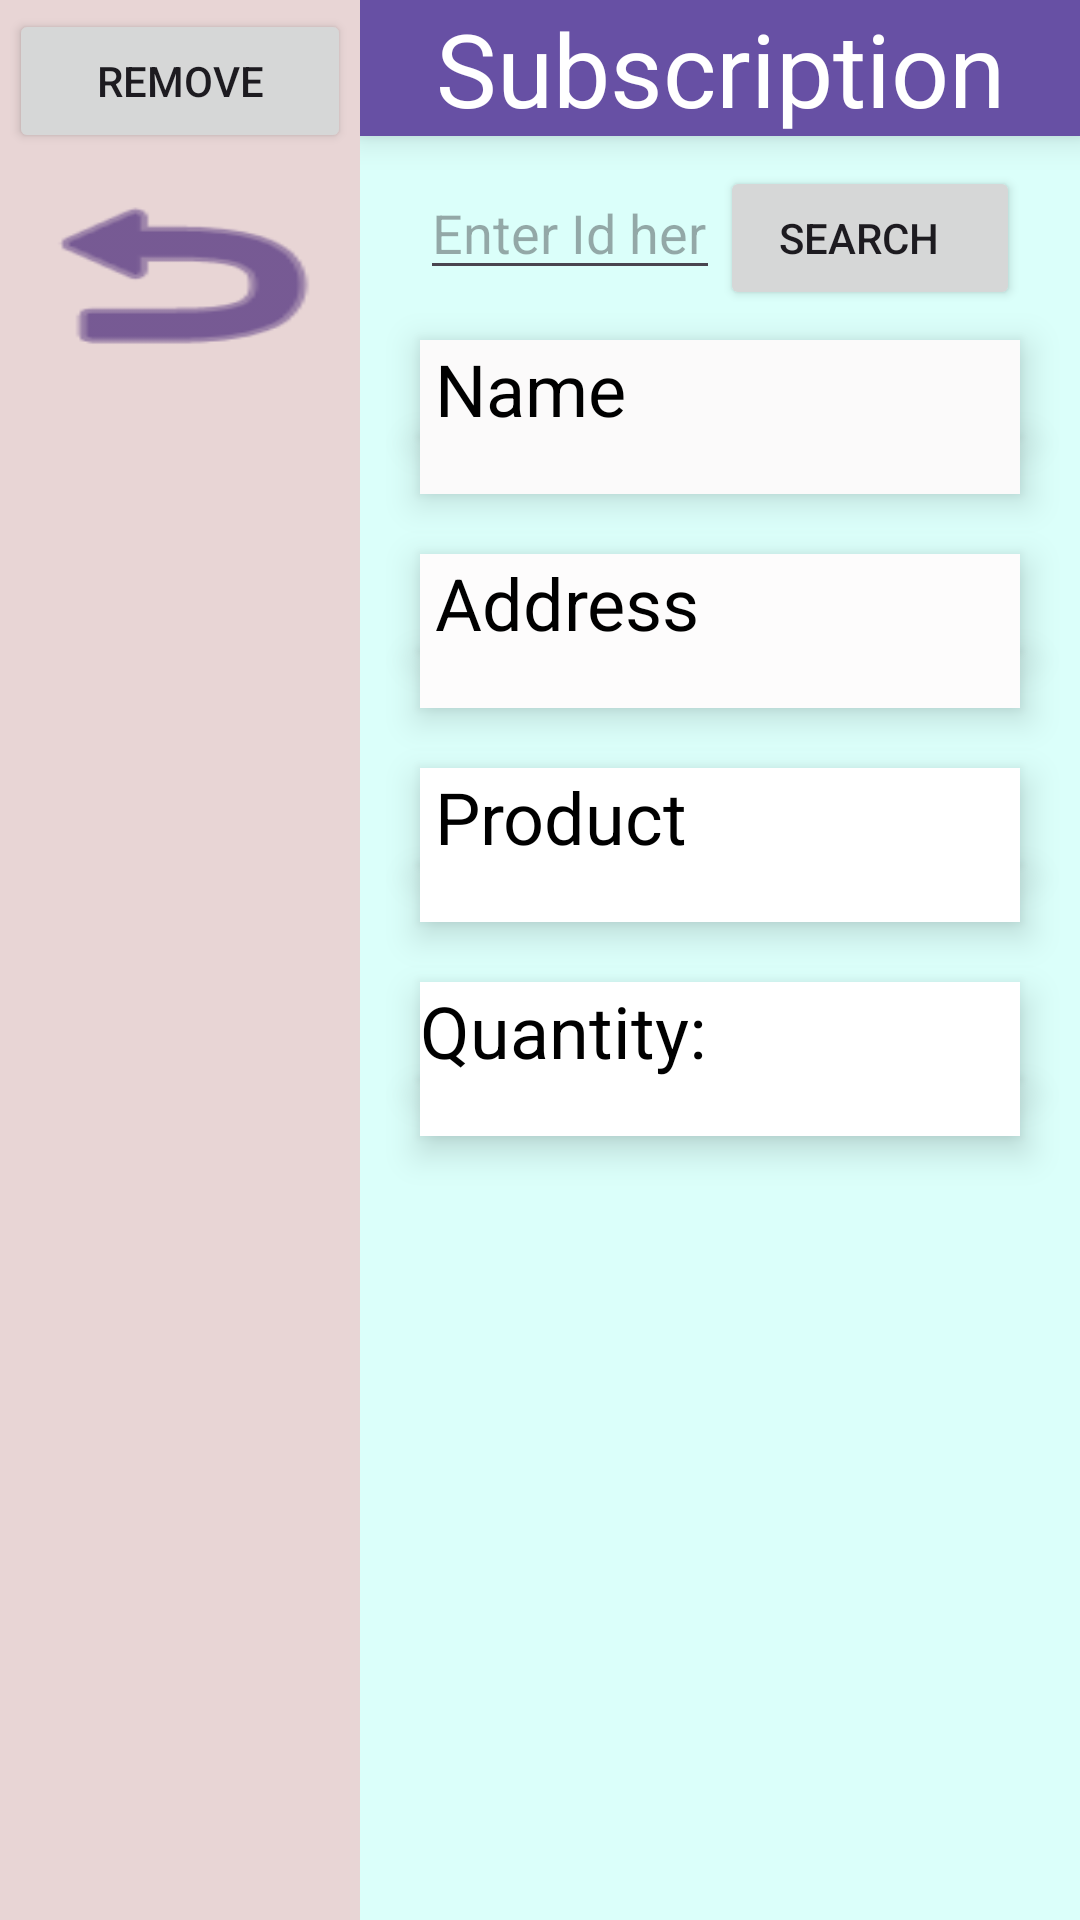

Where to tap for icons on this 1080px×1920px app screen, as (x=x, y=y):
revert: (x=184, y=276)
